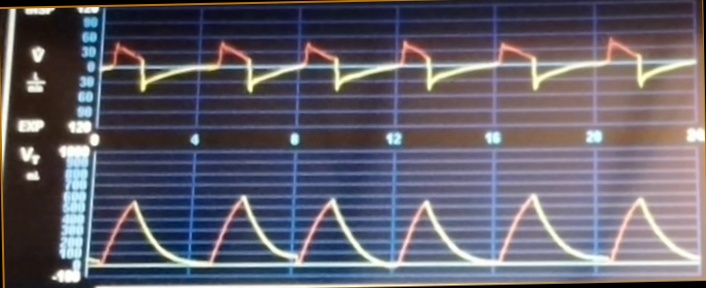Normal Flow: (104, 31, 694, 109)
Normal Volume: (92, 183, 696, 272)
